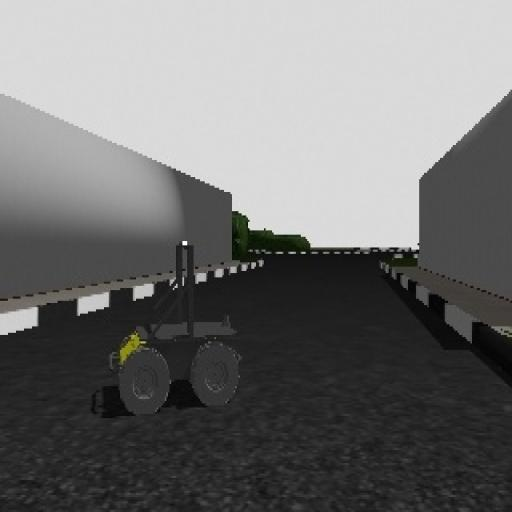huskya200: (98, 230, 254, 436)
